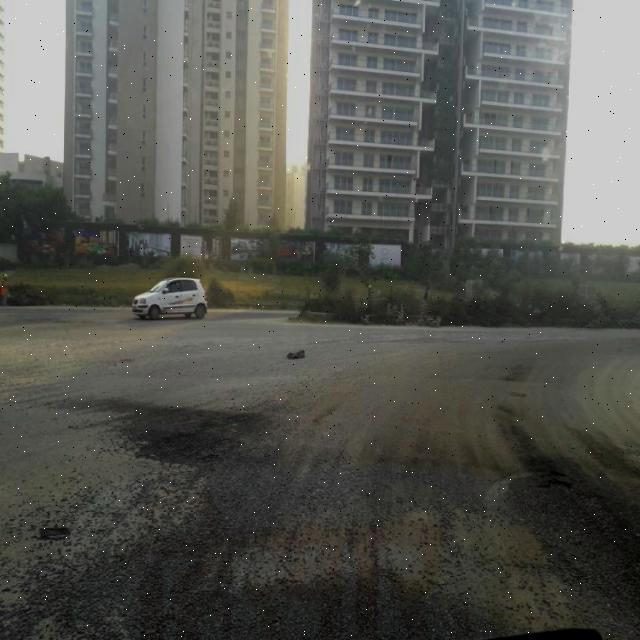D40: (532, 472, 640, 598), (134, 424, 250, 484)
